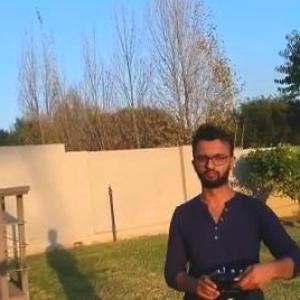follow: (152, 117, 299, 299)
